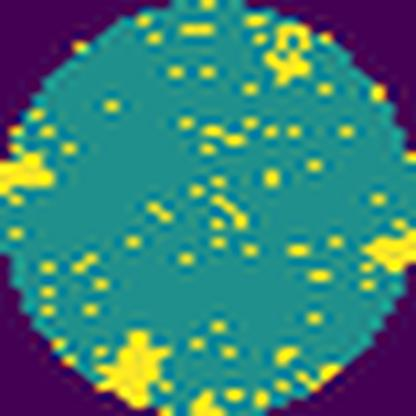Loc: (102, 327, 170, 405), (0, 160, 61, 198), (366, 227, 416, 273)
